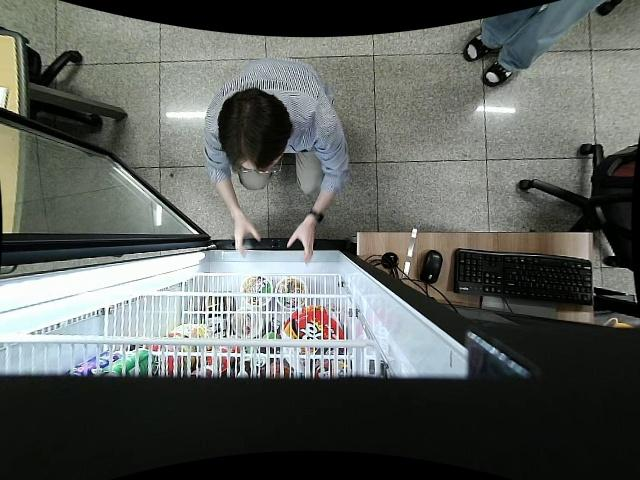00_hand: (233, 216, 259, 257), (287, 228, 314, 259)
